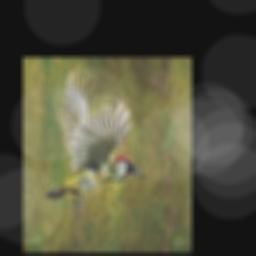Woodpecker: (42, 65, 146, 210)
